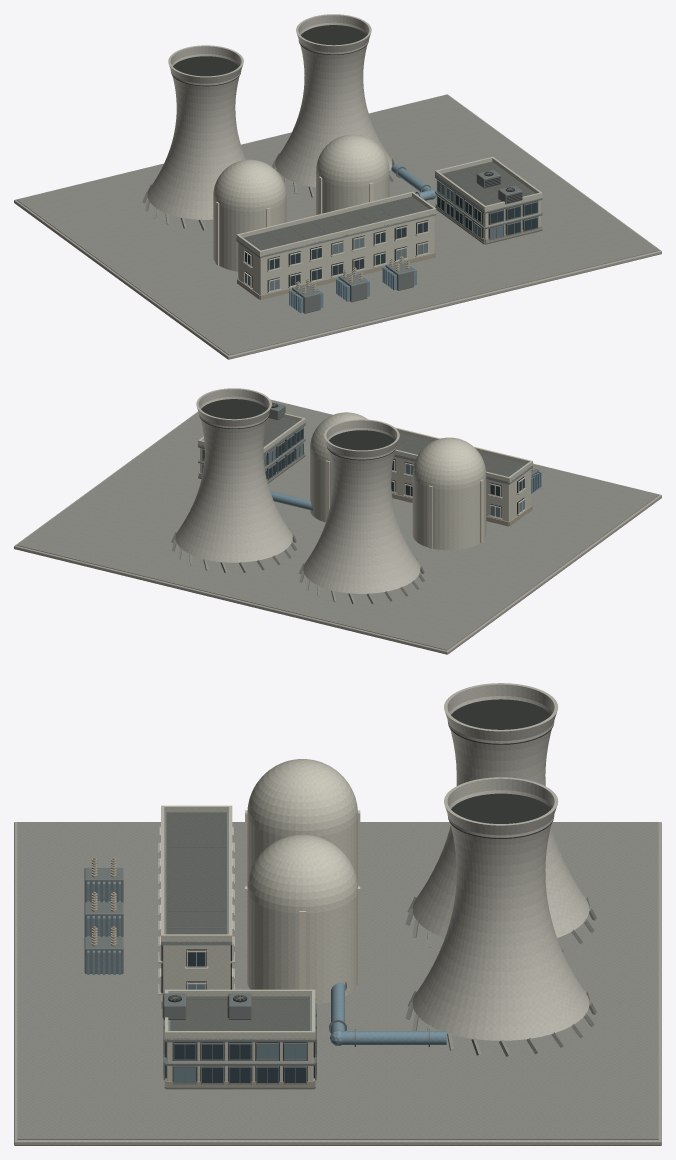
File: EXP_POWER_NUCLEAR.glb
3 views of the same model, one above another, from view 1: azimuth 30°, elevation 25°; view 2: azimuth 150°, elevation 25°; view 3: azimuth 270°, elevation 25° (orthographic). The views are drawn at different scales.
Parts seen in each view (by area): view 1: EXP_POWER_NUCLEAR_Visual; view 2: EXP_POWER_NUCLEAR_Visual; view 3: EXP_POWER_NUCLEAR_Visual.
Part boxes in pixels (x1,y1,x2,y2): EXP_POWER_NUCLEAR_Visual: (14,14,661,359); EXP_POWER_NUCLEAR_Visual: (14,388,661,654); EXP_POWER_NUCLEAR_Visual: (14,683,661,1145).
Size of what is drawn, in the model's own units: 13.92 by 4.5 by 11.92.
Materials: 14 (9 with a texture image).
